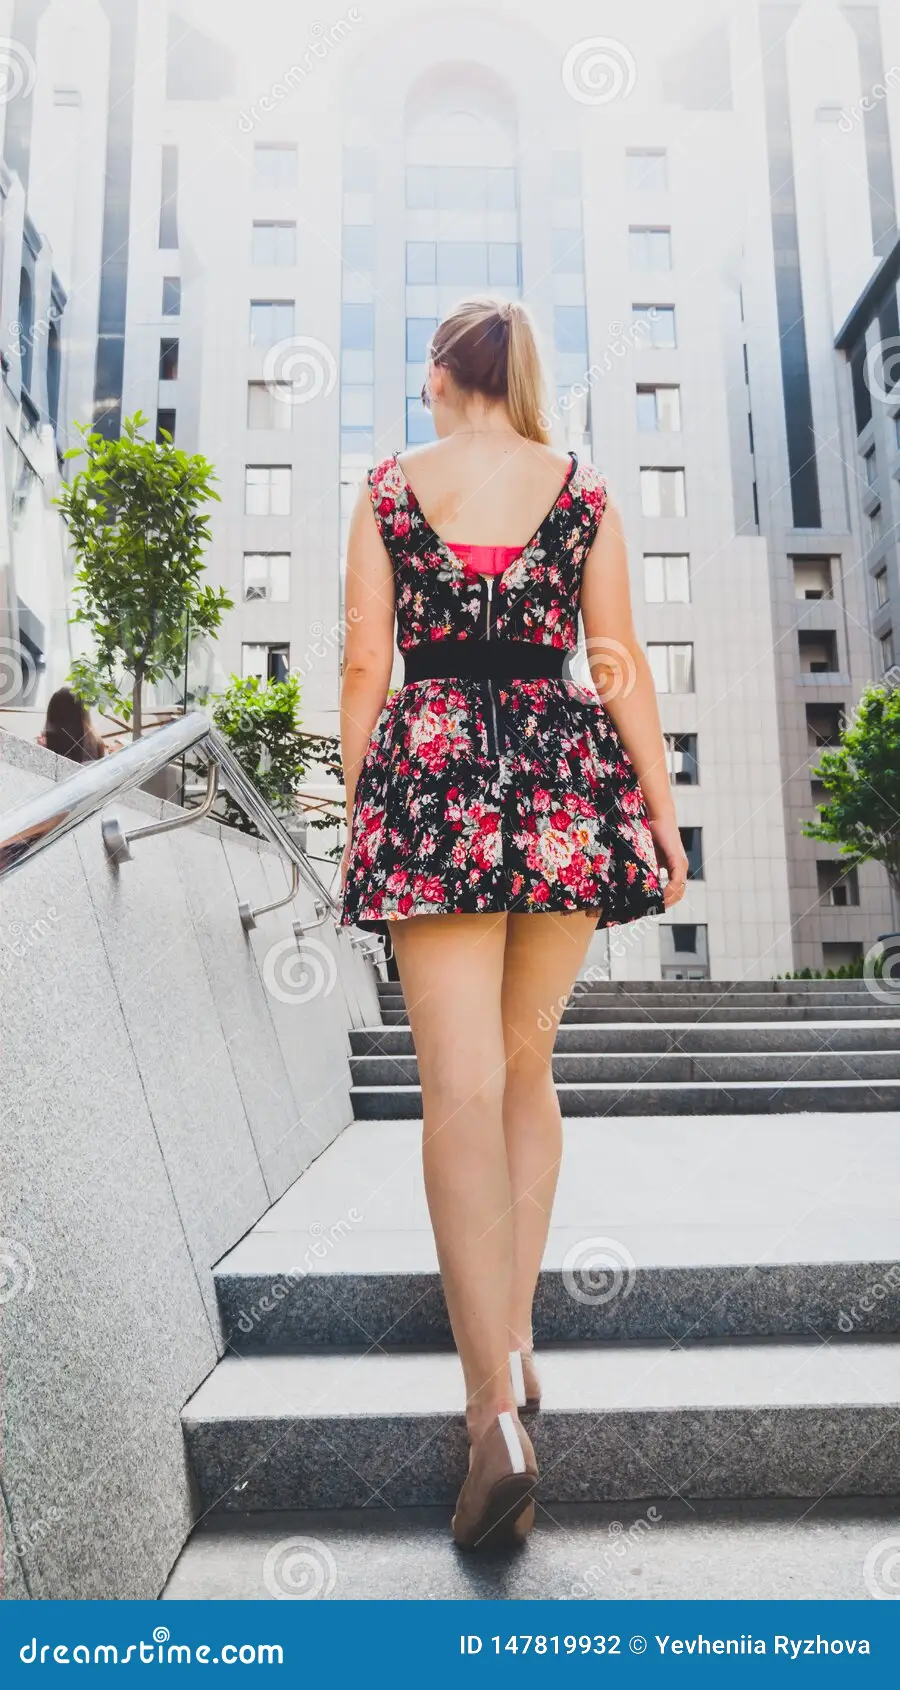person: (336, 295, 693, 1547)
